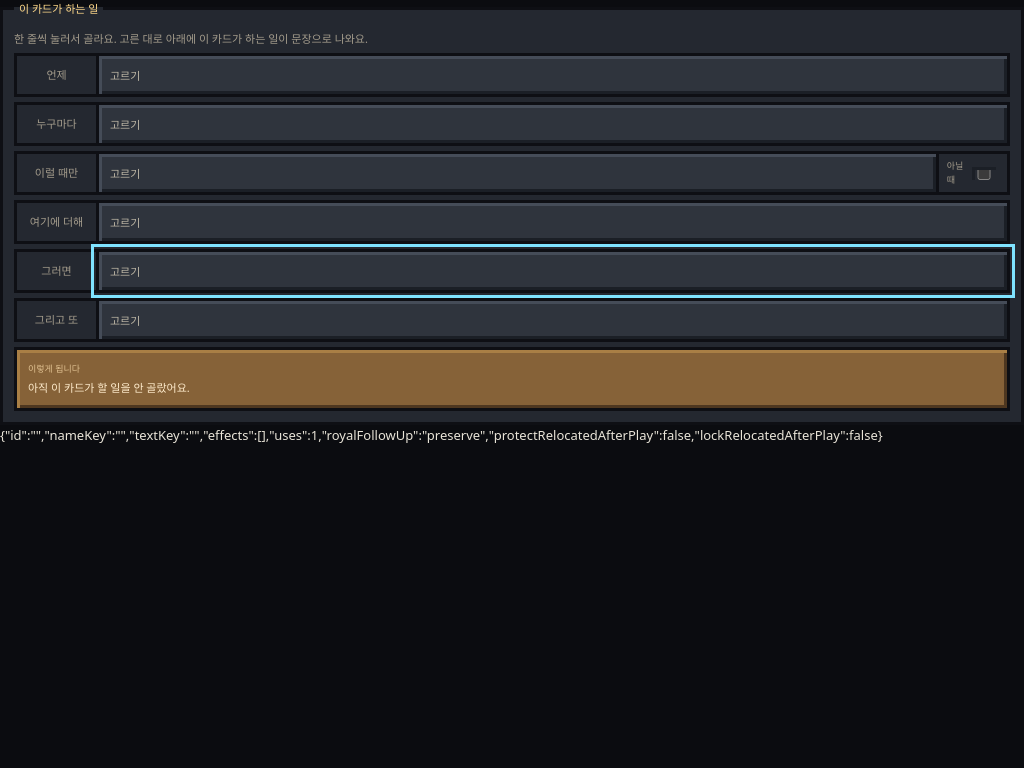
it: Phase 2 — a slot is a chip that opens a sheet › offers exactly the vocabulary options for the slot, and writes the chosen one
Click the button with test id "slot-then". click: (125, 271)
box: [96,249,1010,293]
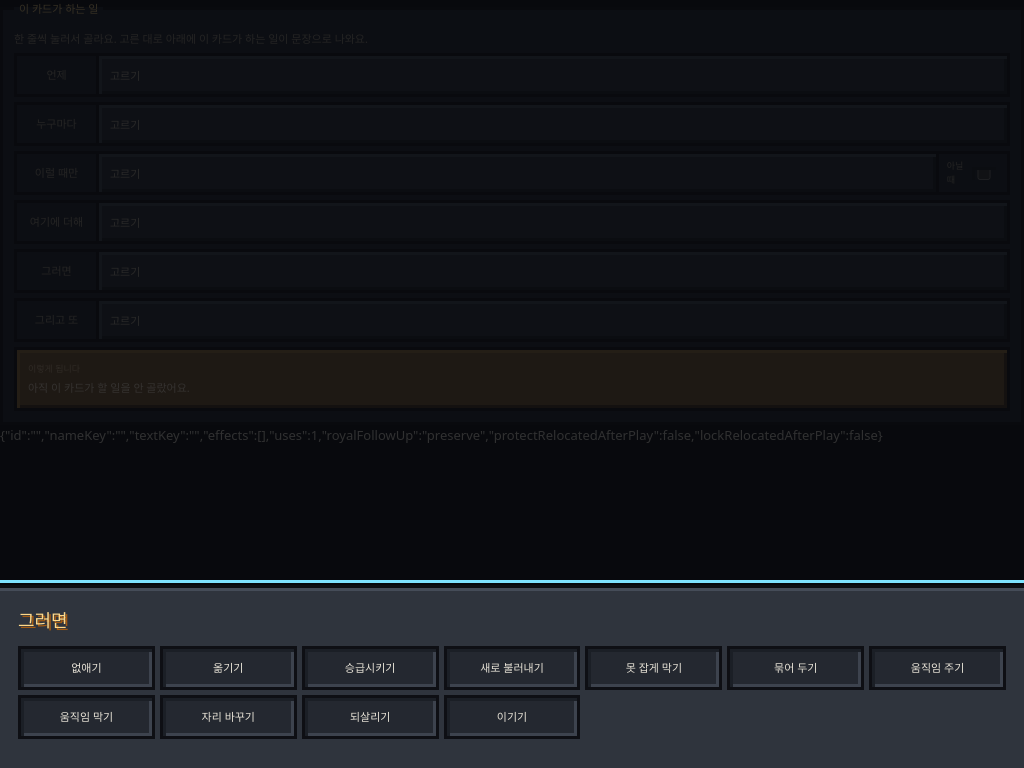
Check: the button with test id "opt-then-destroy_piece" is shown, box [18,646,155,690]
Check: the button with test id "opt-then-swap_pieces" is shown, box [160,695,297,739]
Click the button with test id "opt-then-freeze_piece". click: (796, 668)
box: [727,646,864,690]
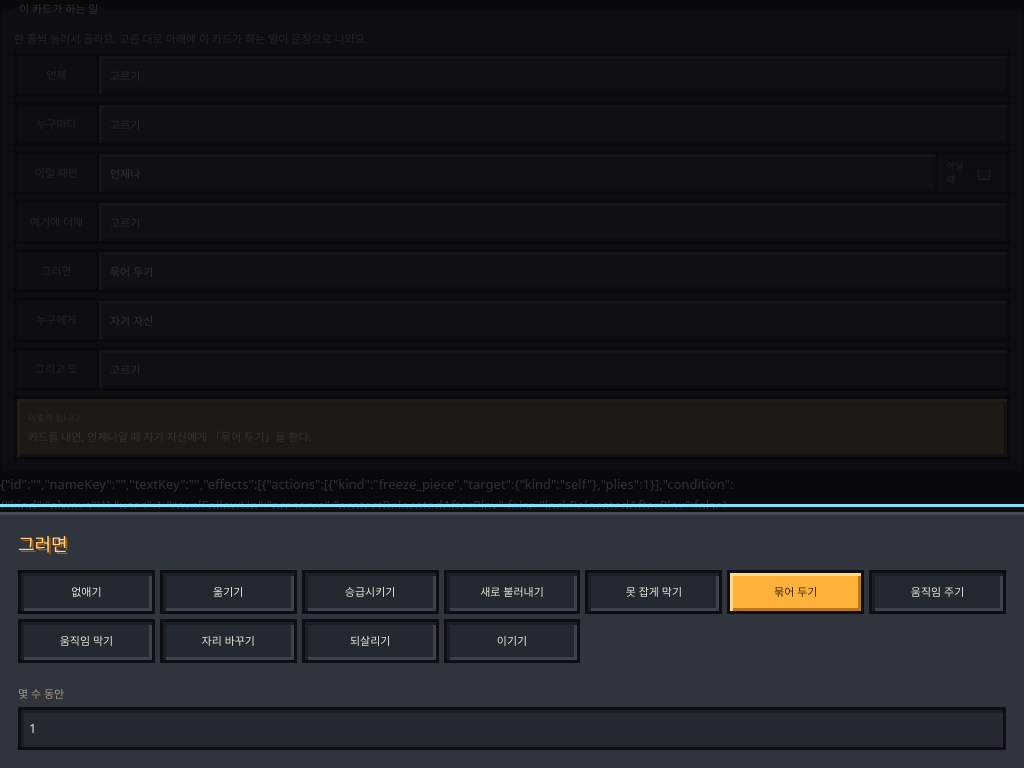
Check: the button with test id "slot-then" reads "묶어 두기", box [96,249,1010,293]
